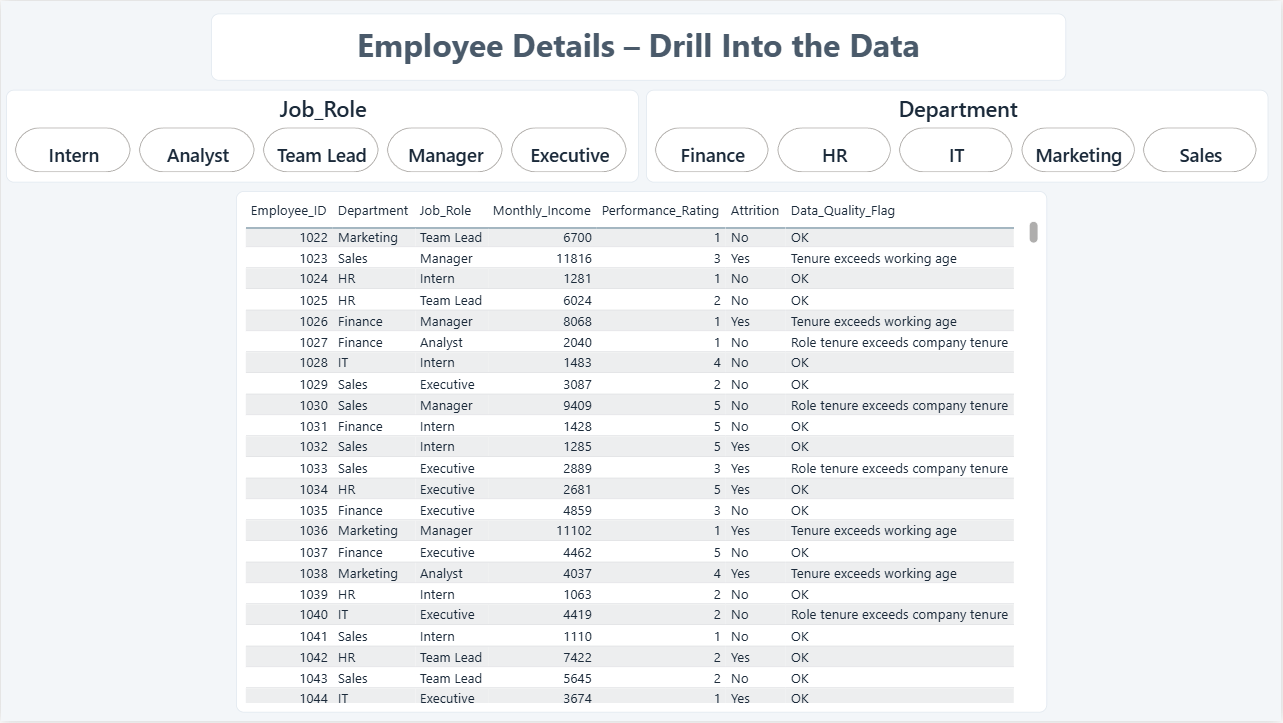

The page's visual inventory and layout, read from the dashboard file:
{"tool":"powerbi","page":{"name":"Employee Details","canvas":[1280,720],"ordinal":4},"visuals":[{"type":"textbox","box":[210,12.5,855,67.5],"z":0},{"type":"tableEx","fields":{"Values":["Fact_Employee.Employee_ID","Fact_Employee.Department","Fact_Employee.Job_Role","Fact_Employee.Monthly_Income","Fact_Employee.Performance_Rating","Fact_Employee.Attrition","Fact_Employee.Data_Quality_Flag"]},"box":[235,190,811.2,521.2],"z":1},{"type":"advancedSlicerVisual","fields":{"Values":["Dim_JobRole.Job_Role"]},"box":[5,88.8,632.5,92.5],"z":2},{"type":"advancedSlicerVisual","fields":{"Values":["Dim_Department.Department"]},"box":[645,88.8,622.5,92.5],"z":3}]}

Visuals, with their boxes in screenshot pixels (x1, y1, x2, y2), scaled from the page's 1280x720 canvas onto the 1283x723 screenshot:
textbox: select_region(210, 13, 1067, 80)
tableEx - Fact_Employee.Employee_ID x Fact_Employee.Department: select_region(236, 191, 1049, 714)
advancedSlicerVisual - Dim_JobRole.Job_Role: select_region(5, 89, 639, 182)
advancedSlicerVisual - Dim_Department.Department: select_region(647, 89, 1270, 182)
